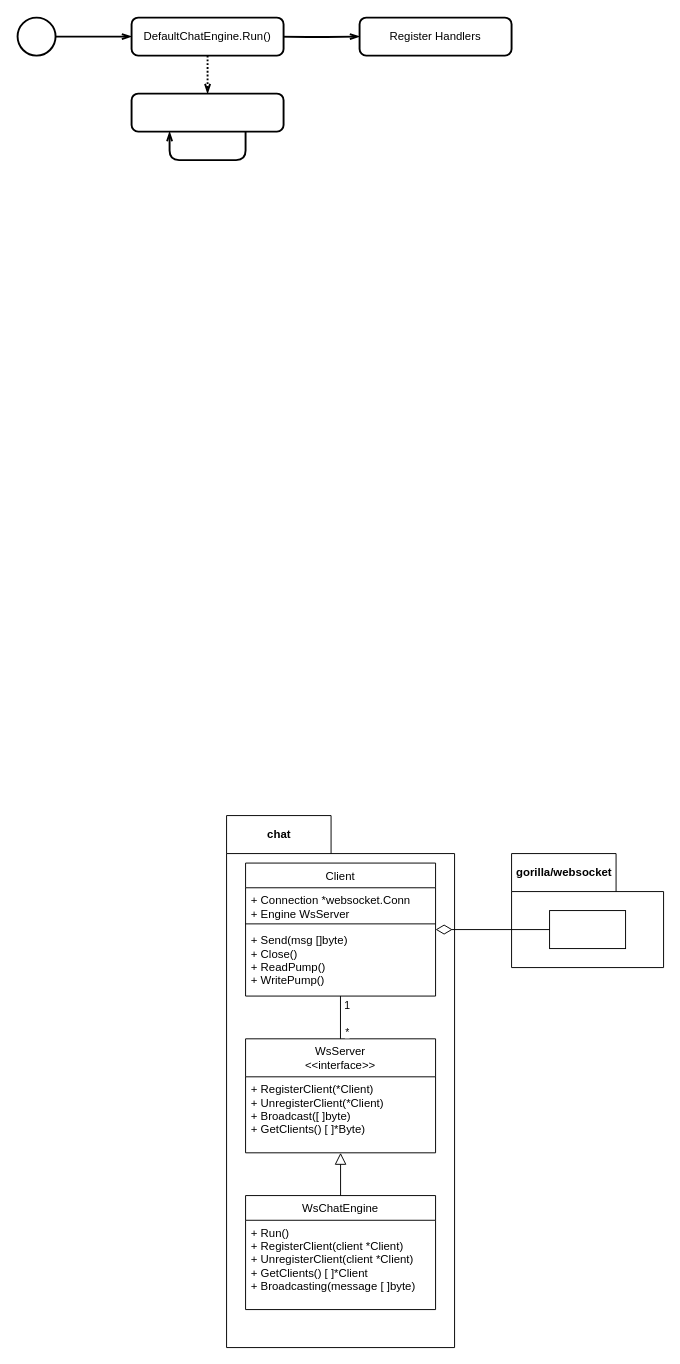
The diagram is 680 pixels wide and 1364 high, and some of its shapes have lost their labels. The centre of each missing label's shape, as x and y in pixels:
"Check for client register or unregister messages" goes at point 207,112.
"Conn" goes at point 587,929.
"main()" goes at point 36,36.
